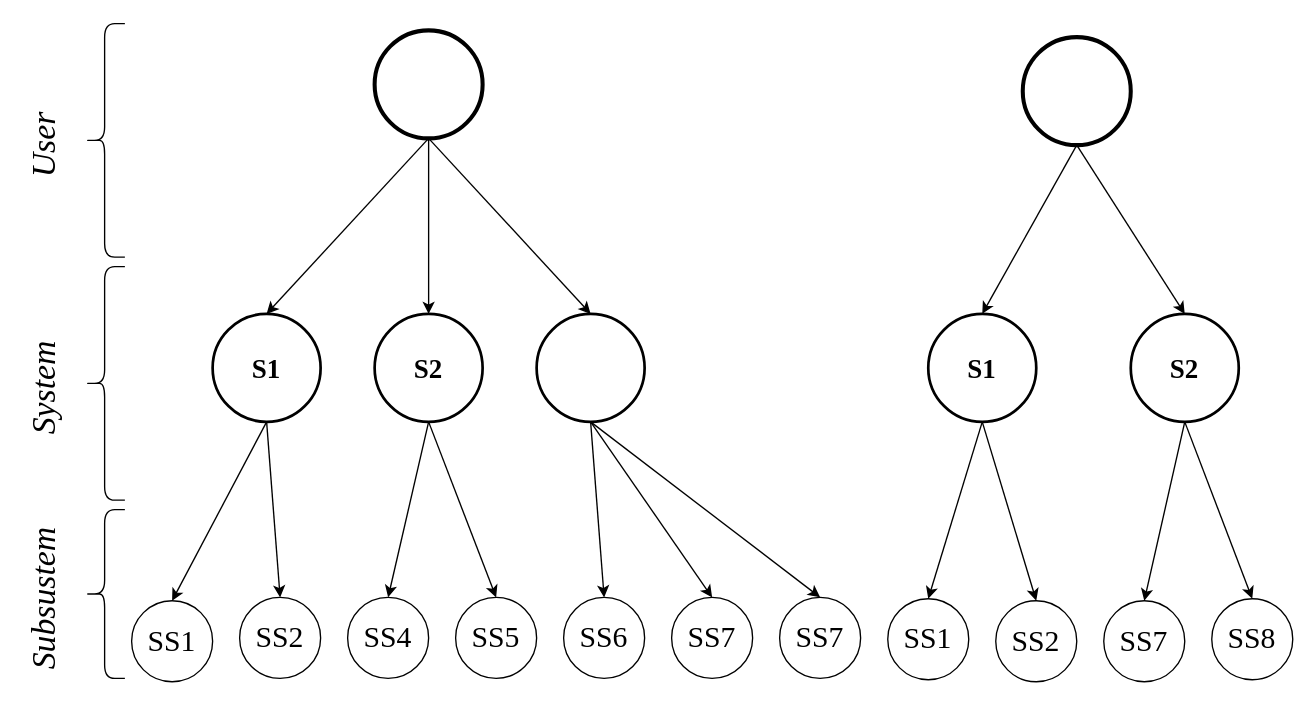
The diagram is 1316 pixels wide and 706 high, and some of its shapes have lost their labels. Each missing label, with the centre of its shape:
"S3" belongs at (590,367).
"U1" belongs at (428,84).
"U2" belongs at (1076,90).
